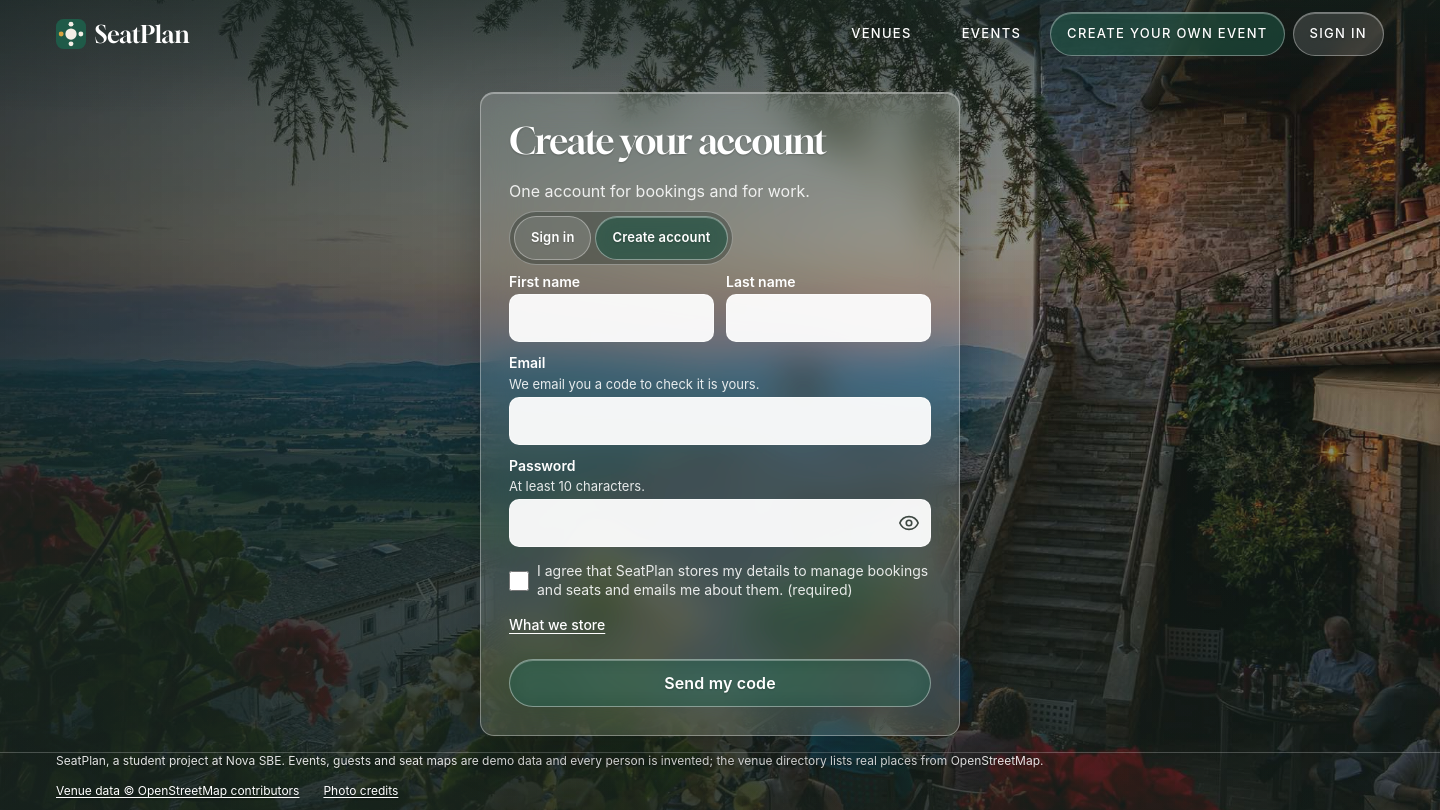
/account signed out › creates an account with the code step and shows the demo code
The width and height of the screenshot is (1440, 810).
Type "Rita" into the field labelled "First name" at [612, 318], box [509, 294, 714, 342]
Type "Rossi" into the field labelled "Last name" at [828, 318], box [726, 294, 931, 342]
Type "rita@example.com" into the field labelled "Email" at [720, 421], box [509, 397, 931, 445]
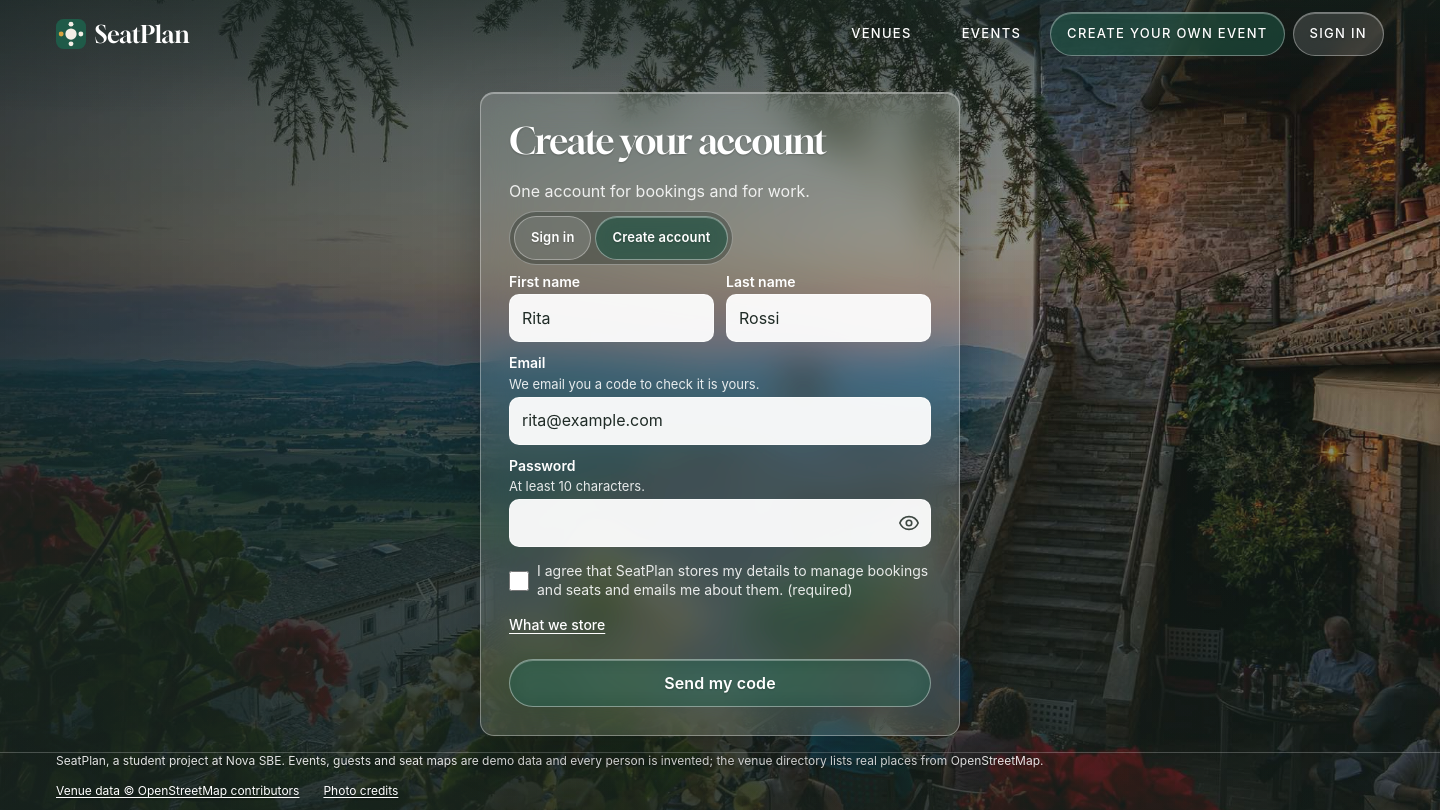
Type "a long password" into the password field labelled "Password" at [720, 523], box [509, 499, 931, 547]
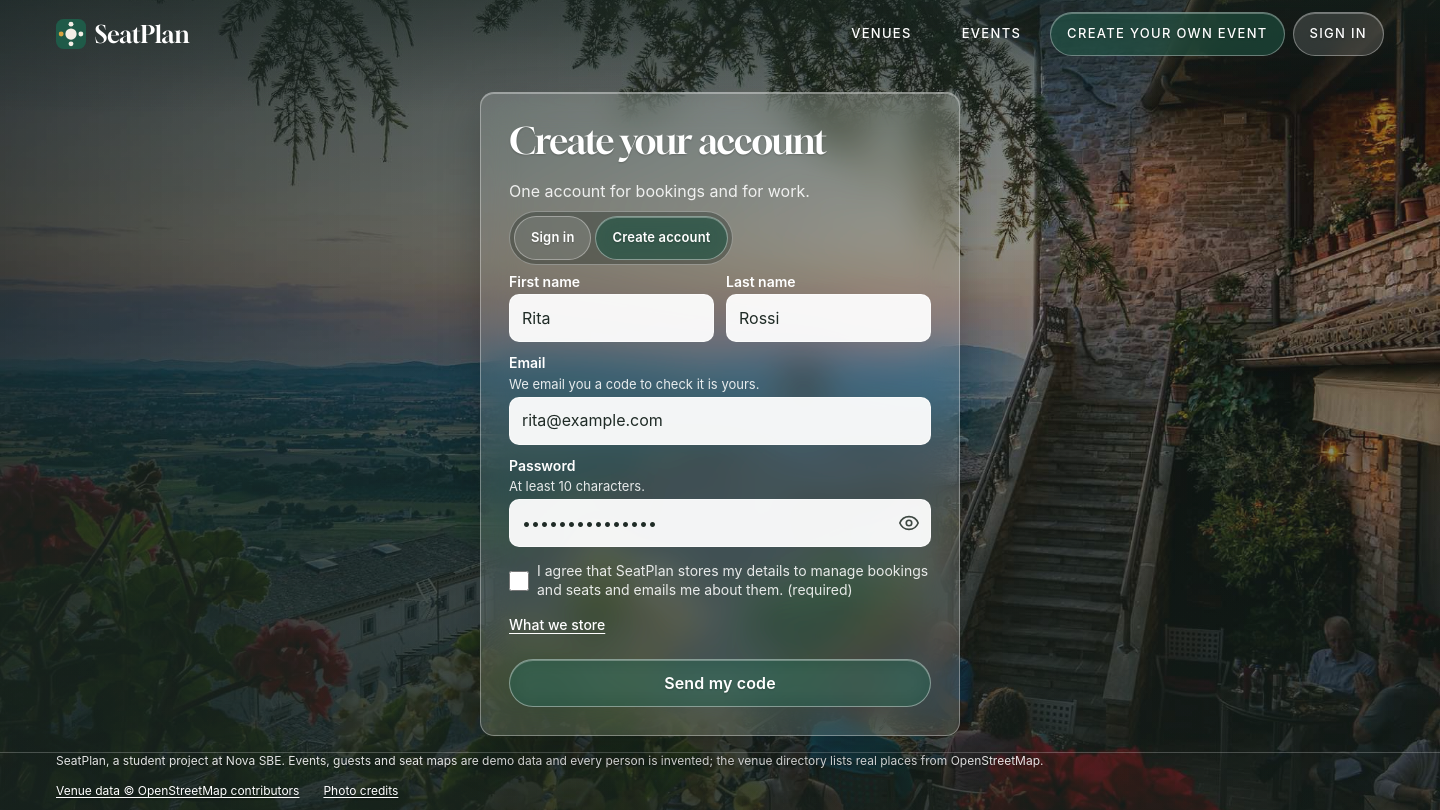
Click the checkbox labelled "I agree" at [519, 581], box [509, 571, 529, 591]
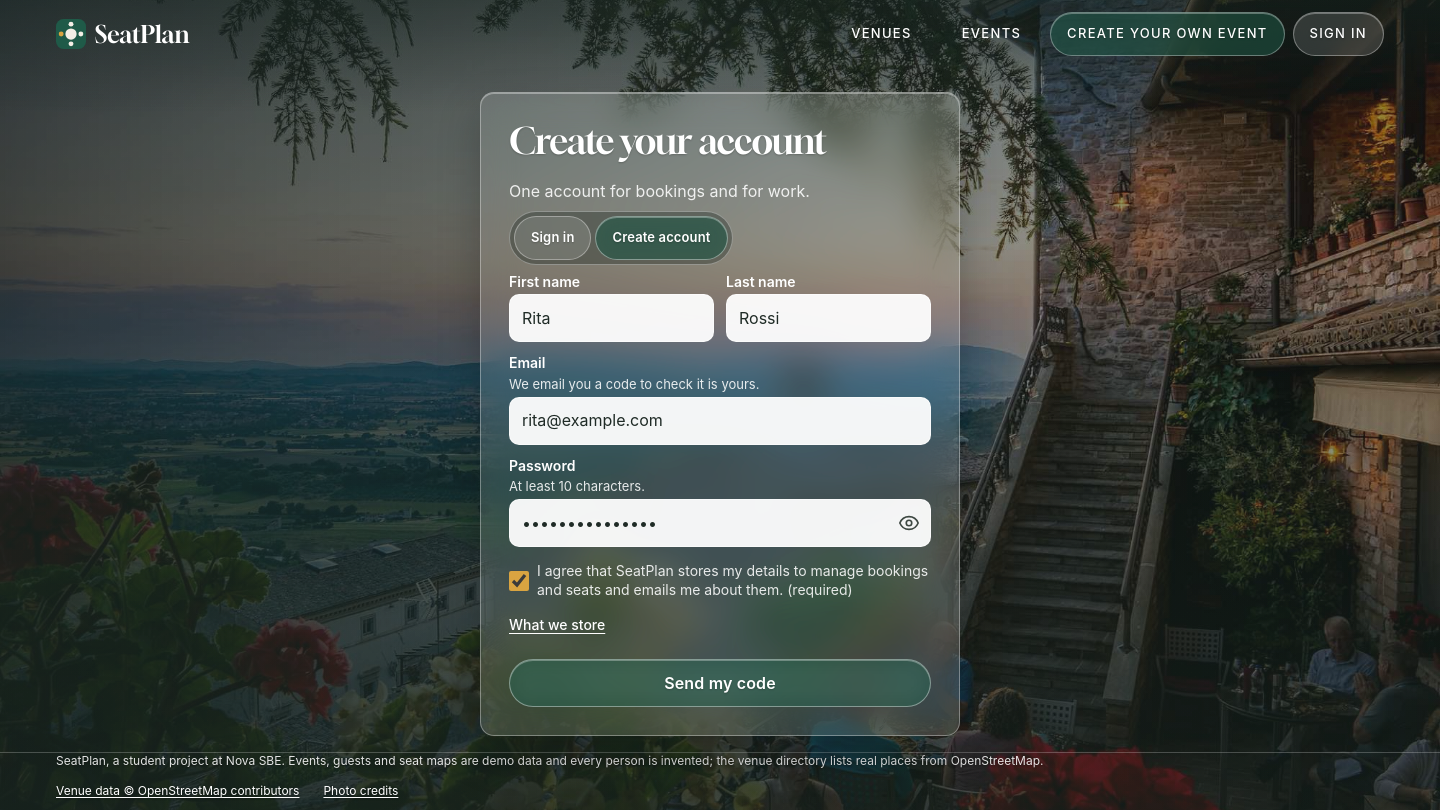
Click the button "Send my code" at [720, 683], box [509, 659, 931, 707]
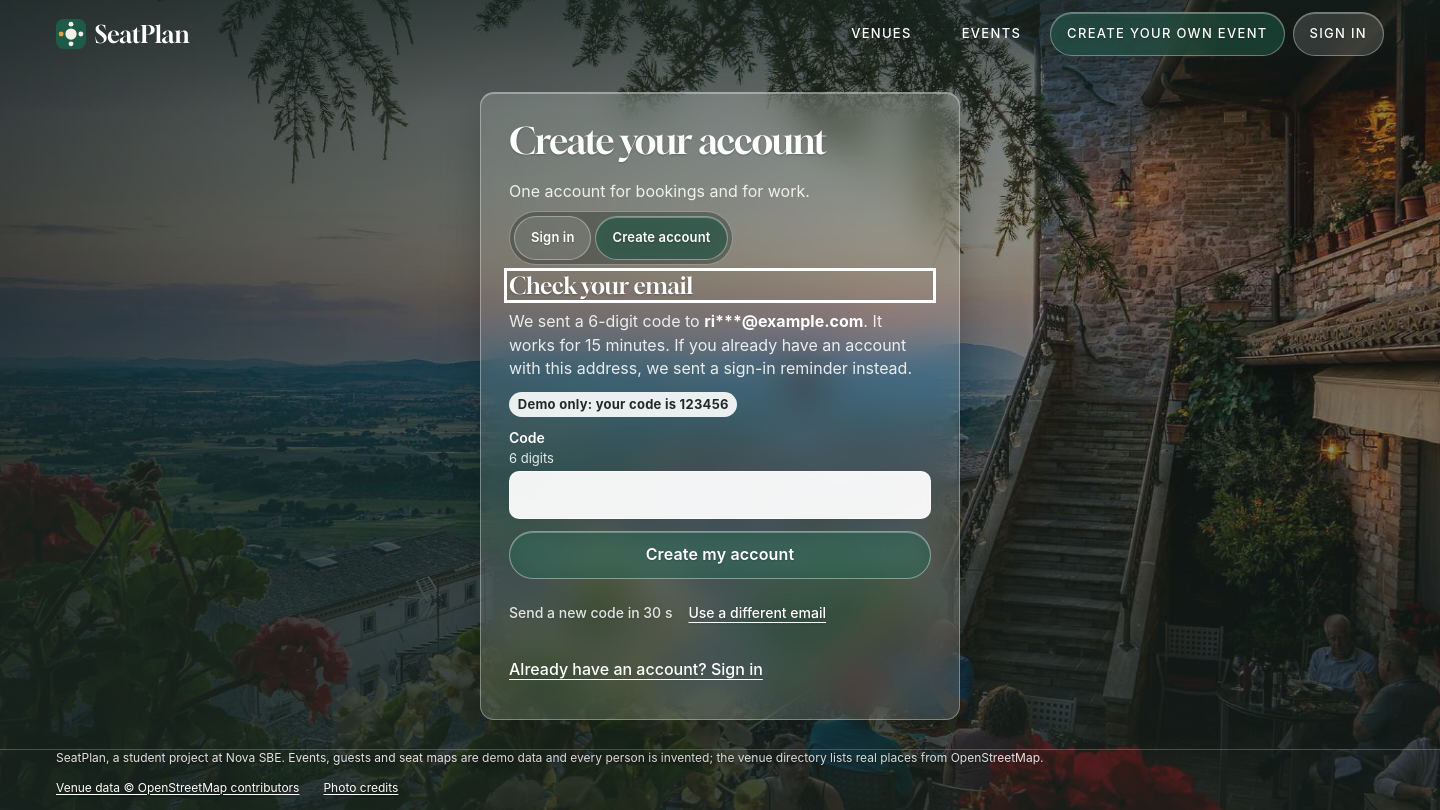
Check: the text "Demo only: your code is 123456" is shown, box [509, 392, 738, 417]
Type "123456" into the field labelled "Code" at [720, 495], box [509, 471, 931, 519]
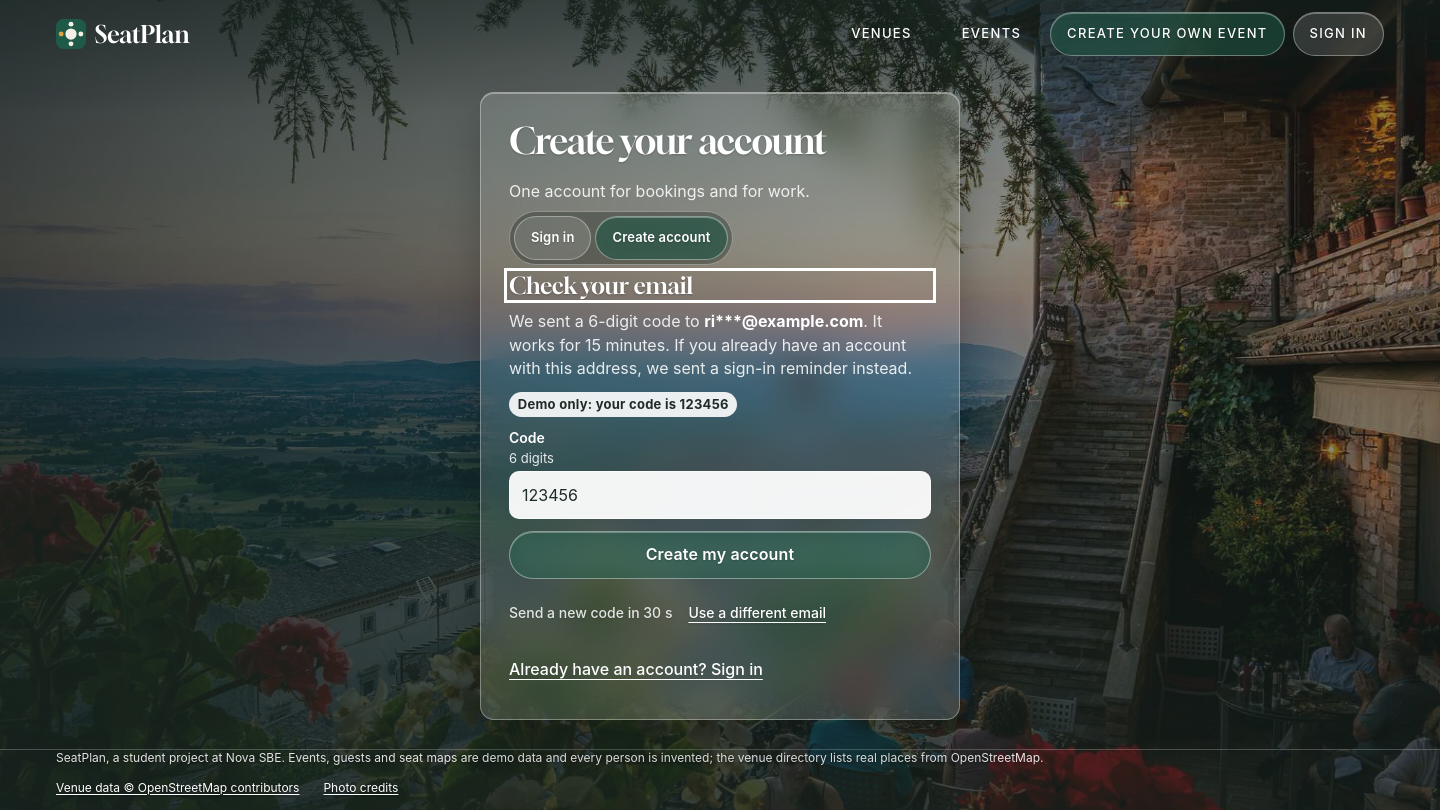
Click the button "Create my account" at [720, 555], box [509, 531, 931, 579]
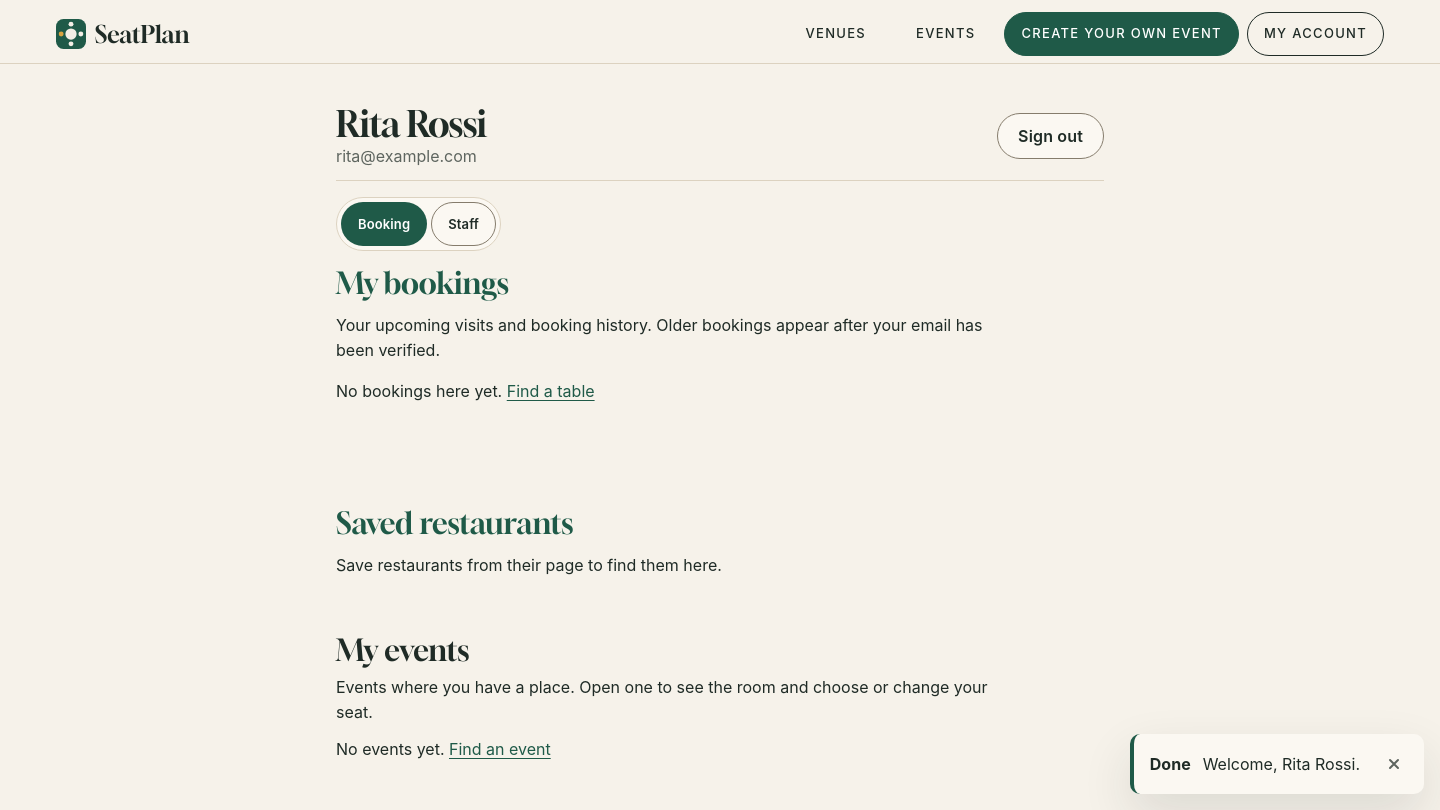
Check: the button "Staff" is shown, box [431, 202, 496, 246]
